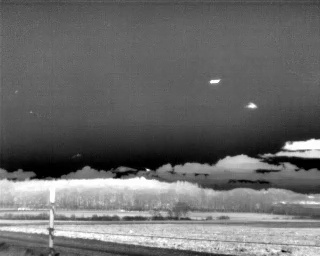DRONE: (207, 75, 224, 88)
